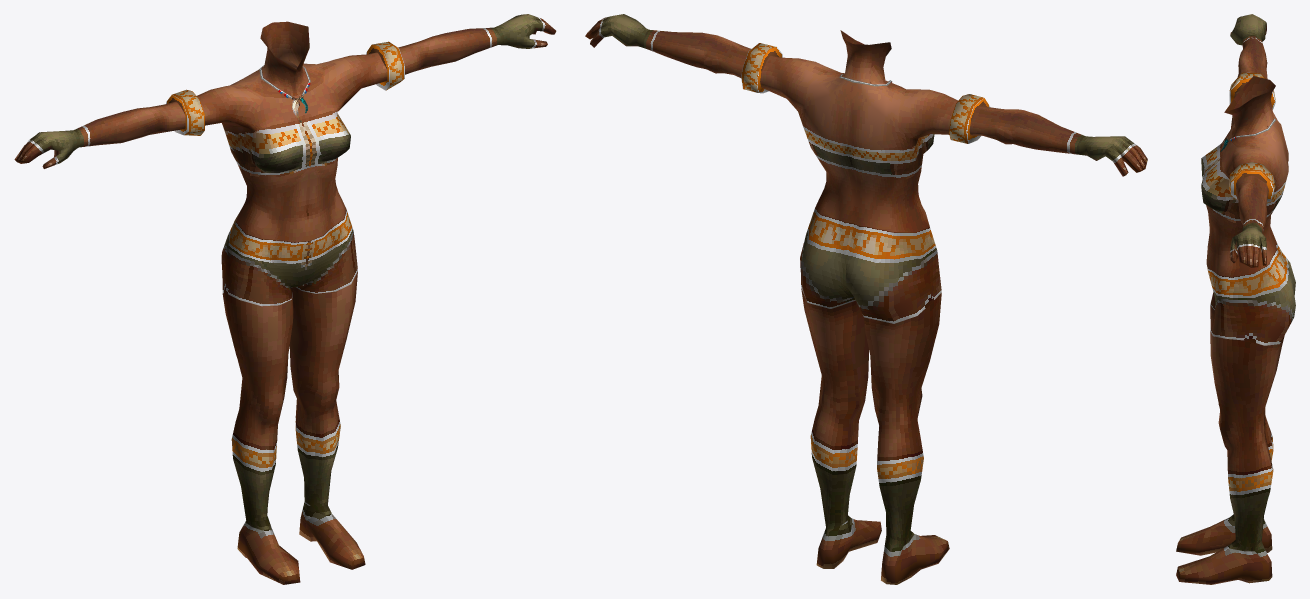
Rendered from f_body006.obj.
3 renders of one model, left to right at view 1: azimuth 30°, elevation 25°; view 2: azimuth 150°, elevation 25°; view 3: azimuth 270°, elevation 25°, orthographic. The views are drawn at different scales.
Parts seen in each view (by area): view 1: editpl_f-0000-44, editpl_f-0000-43, editpl_f-0000-42; view 2: editpl_f-0000-44, editpl_f-0000-43, editpl_f-0000-42; view 3: editpl_f-0000-44, editpl_f-0000-43, editpl_f-0000-42.
Boxes of the visible parts, box(x1,y1,x2,y2) form: editpl_f-0000-44: box(221, 210, 365, 584); editpl_f-0000-43: box(197, 21, 387, 242); editpl_f-0000-42: box(14, 14, 556, 168); editpl_f-0000-44: box(800, 208, 949, 584); editpl_f-0000-43: box(760, 30, 957, 232); editpl_f-0000-42: box(585, 14, 1147, 176); editpl_f-0000-44: box(1176, 244, 1295, 584); editpl_f-0000-43: box(1201, 76, 1288, 277); editpl_f-0000-42: box(1229, 14, 1275, 267).
Bounding box in the file's own units: 173 × 159 × 36.08.
3 materials, 3 textured.
